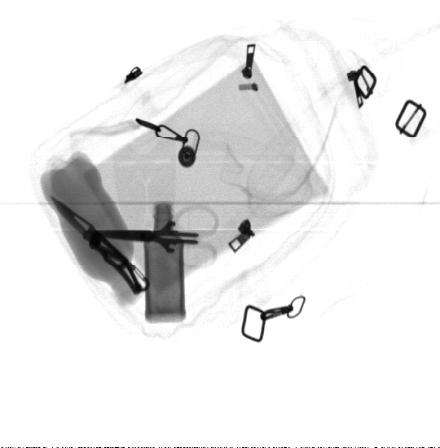Knife: (51, 194, 151, 295)
Scissors: (80, 202, 221, 273)
